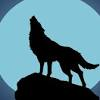Lobo: (21, 15, 95, 88)
